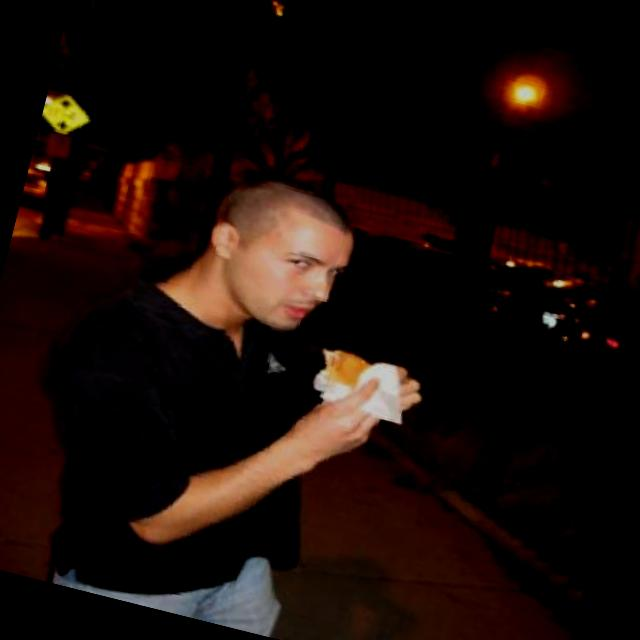Person: (6, 126, 473, 640)
